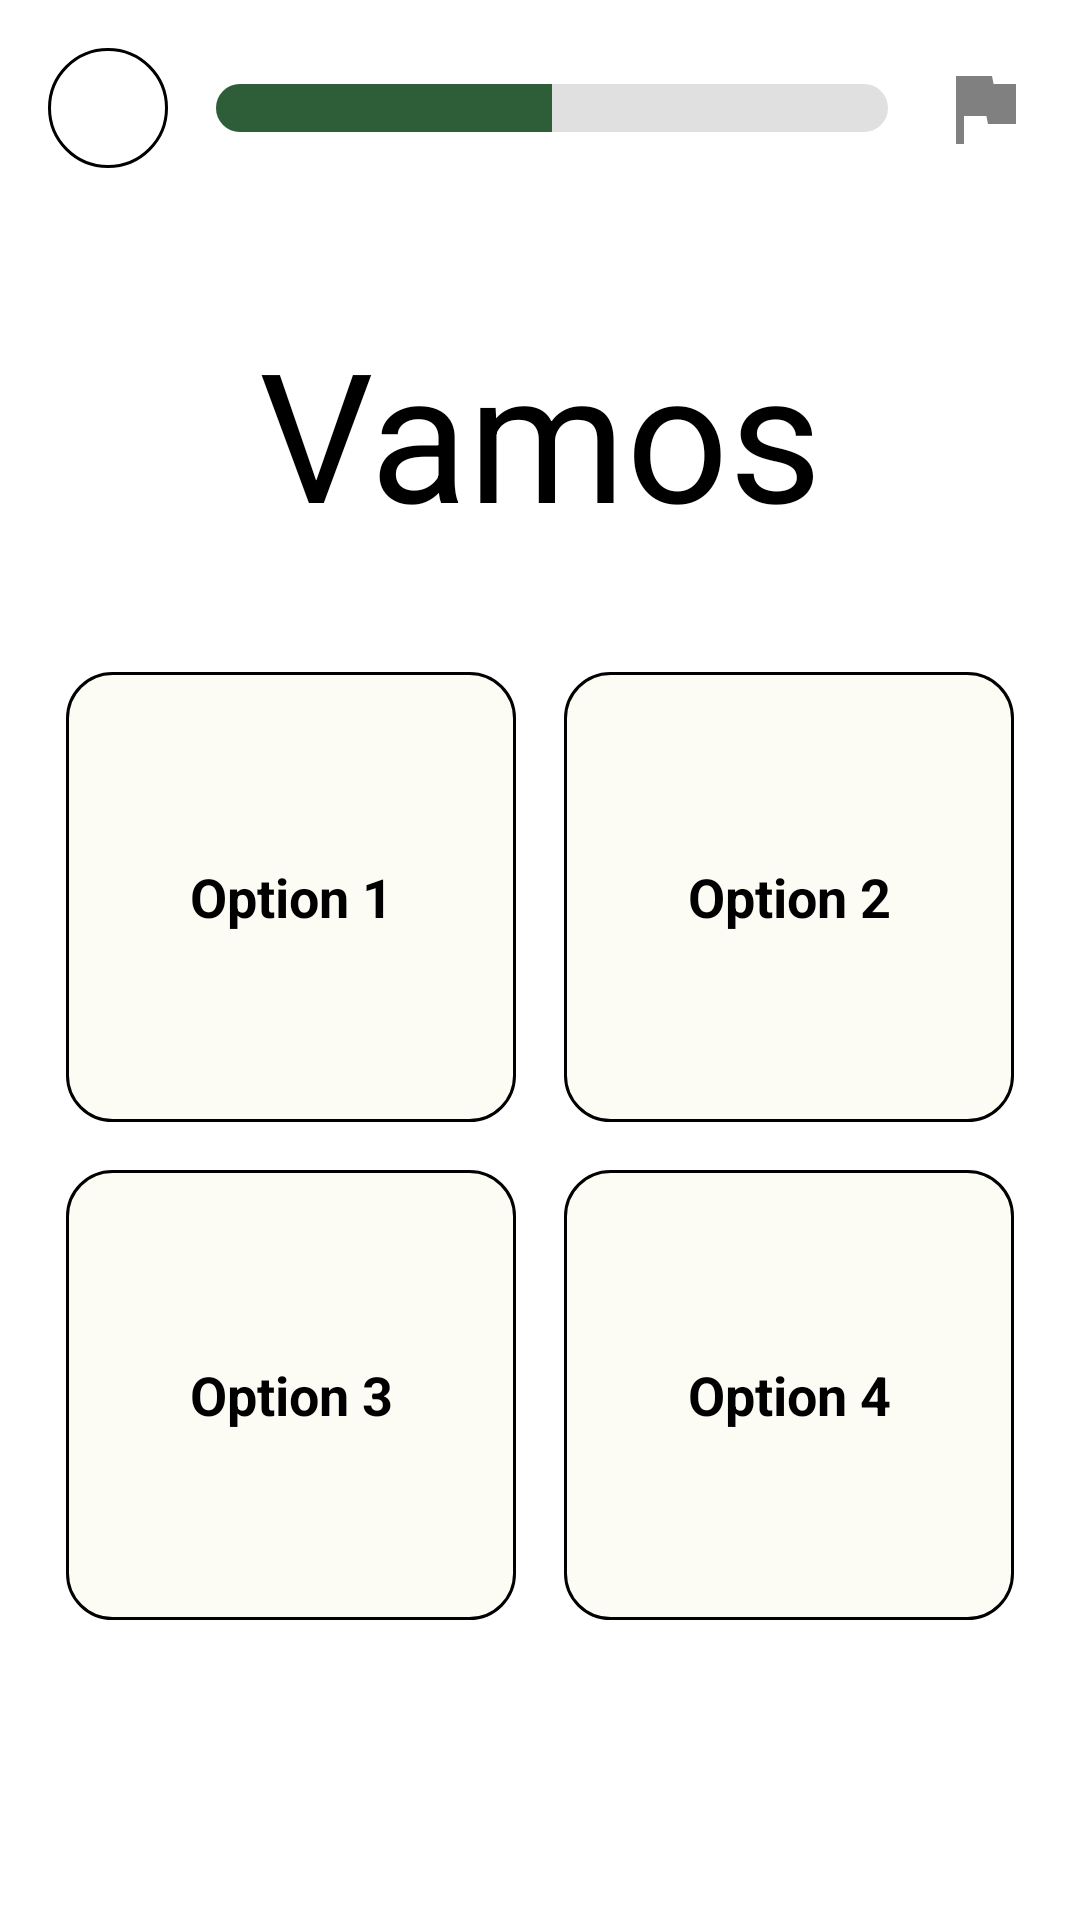

Icons on this 1080 x 1920 Android screen, each with the point to tap as point (x, y):
flag: point (986, 110)
